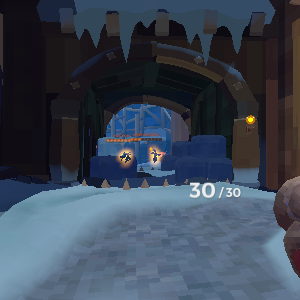model: (119, 147, 133, 169), (149, 146, 163, 166)
